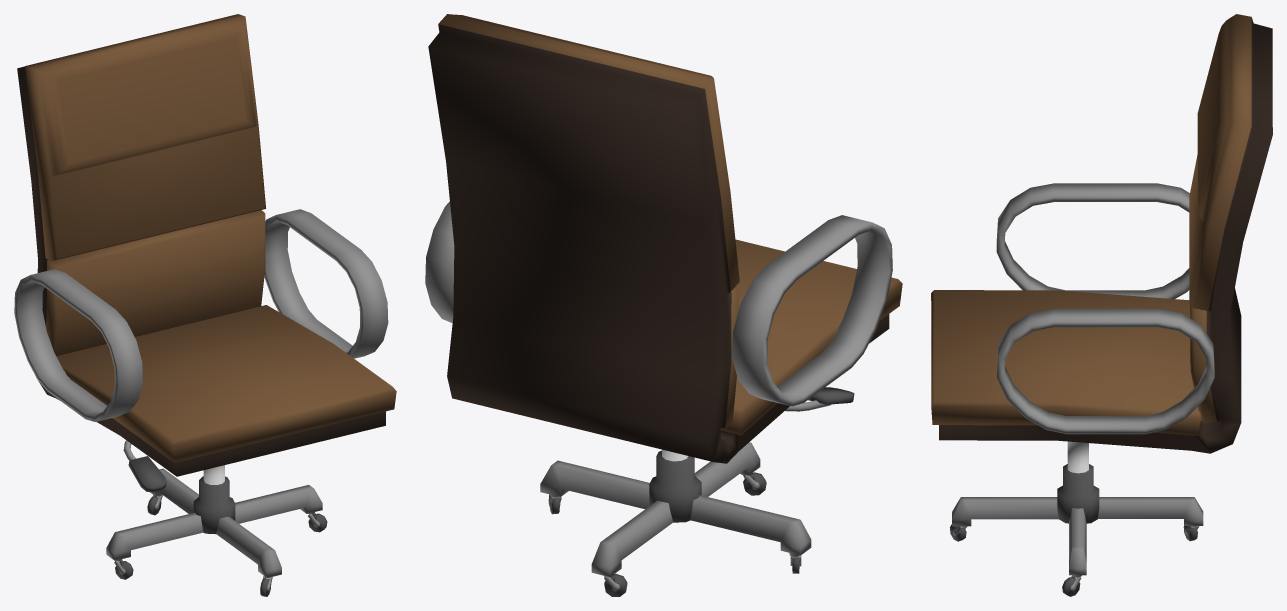
Rendered from chair.glb.
3 renders of one model, left to right at view 1: azimuth 30°, elevation 25°; view 2: azimuth 150°, elevation 25°; view 3: azimuth 270°, elevation 25°, orthographic. The views are drawn at different scales.
Parts seen in each view (by area): view 1: Cube.021; view 2: Cube.021; view 3: Cube.021.
Part boxes in pixels (x1=…): Cube.021: x1=14, y1=14, x2=396, y2=596; Cube.021: x1=425, y1=14, x2=902, y2=596; Cube.021: x1=931, y1=14, x2=1272, y2=596.
Size of the model in its own units: 0.9849 by 1.59 by 1.03.
